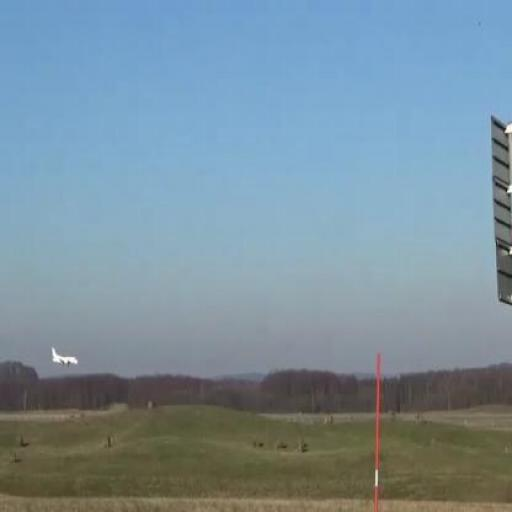aircraft: (51, 346, 79, 364)
